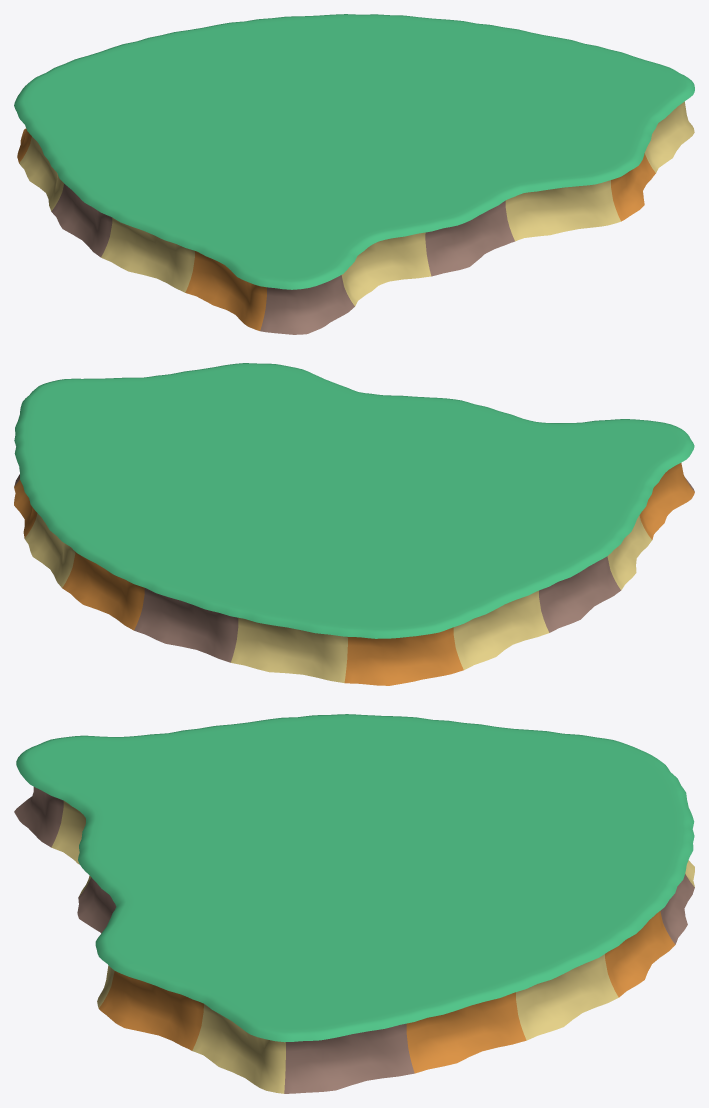
File: Mod_B1_LM1.fbx
The picture shows the model from 3 angles, top to bottom: view 1: azimuth 30°, elevation 25°; view 2: azimuth 150°, elevation 25°; view 3: azimuth 270°, elevation 25°; orthographic projection. The views are drawn at different scales.
Visible parts, largest first — view 1: Mod_B1_Lm1; view 2: Mod_B1_Lm1; view 3: Mod_B1_Lm1.
Part boxes in pixels (left/top/right/bottom): Mod_B1_Lm1: left=14, top=14, right=694, bottom=334; Mod_B1_Lm1: left=14, top=363, right=694, bottom=685; Mod_B1_Lm1: left=14, top=714, right=694, bottom=1093.
Size of the model in its own units: 5440 by 442 by 4801.
